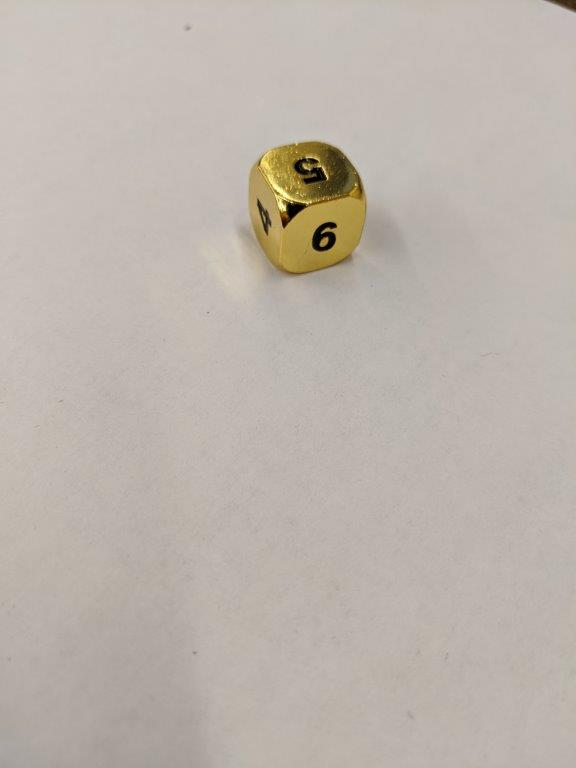d6-5: (246, 140, 367, 271)
